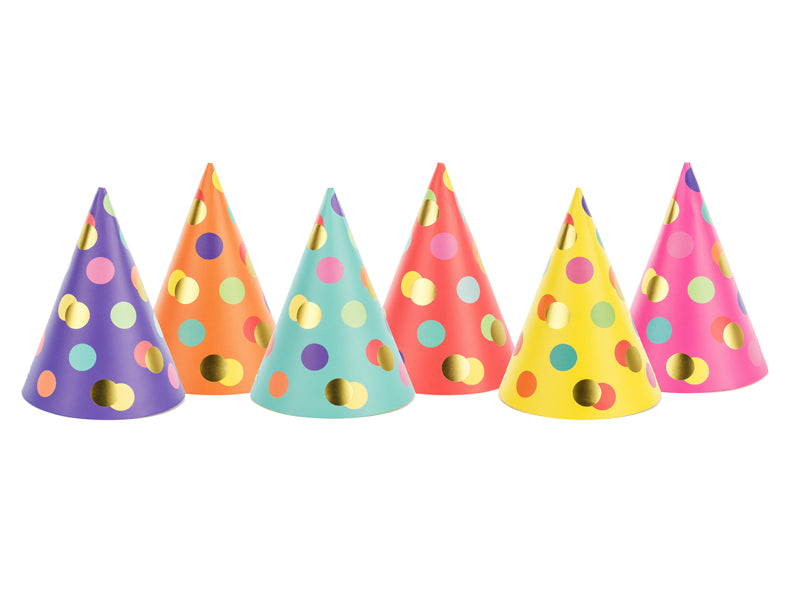cone: (22, 187, 186, 421), (250, 187, 415, 419), (499, 187, 662, 420), (630, 162, 769, 393), (382, 163, 515, 395), (153, 163, 276, 395)
